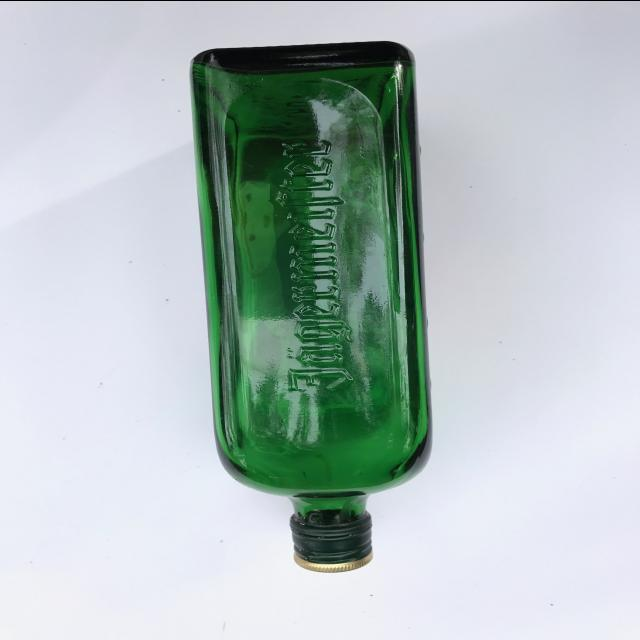glass: (175, 29, 442, 586)
